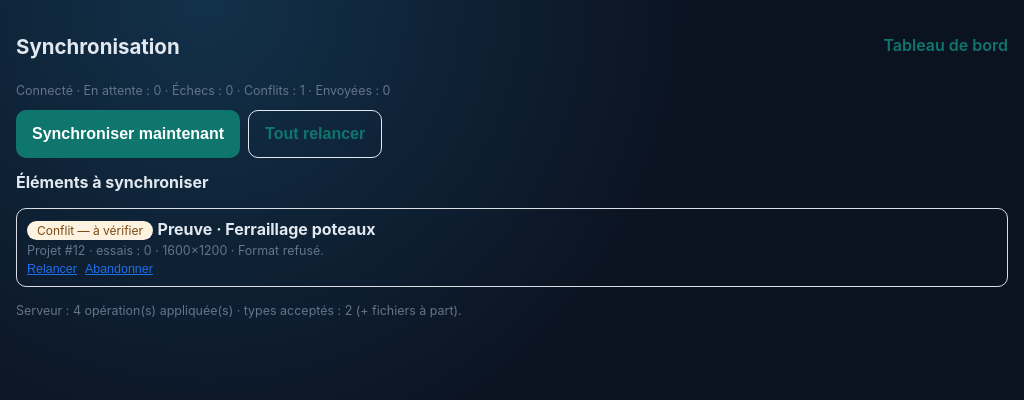
Scenario: SyncPage › permet d'abandonner une opération qui ne partira jamais
Click the button "Abandonner" at (119, 269), box top-left (85, 262), bottom-right (153, 276)
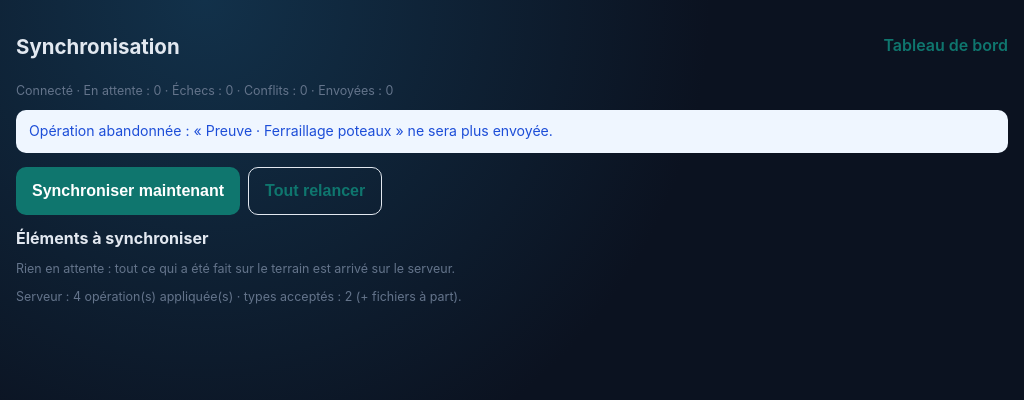
Check: the list item with test id "sync-item" is gone
Check: the text "Opération abandonnée : « Preuve · Ferraillage poteaux » ne sera plus envoyée." is shown, box top-left (16, 110), bottom-right (1008, 153)
